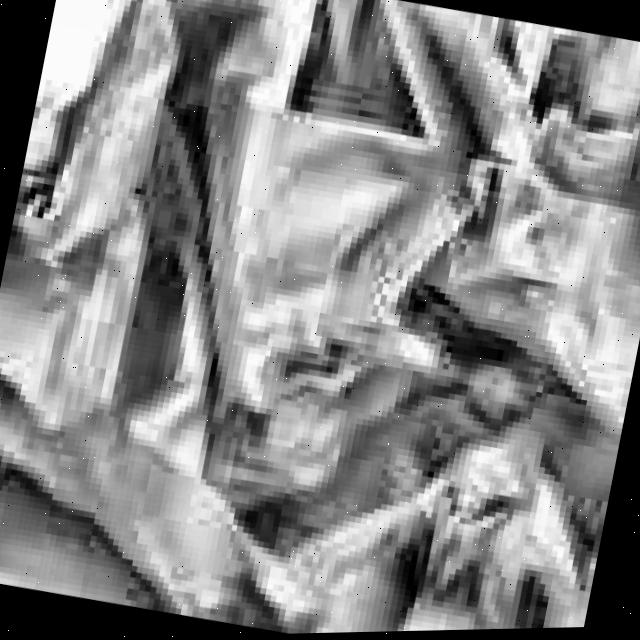paper: (0, 0, 640, 635)
